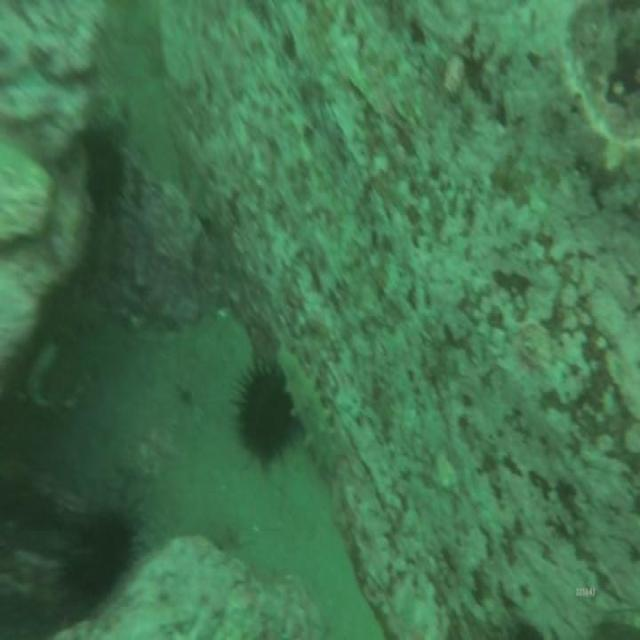echinus: (237, 374, 287, 462), (79, 516, 131, 592), (88, 132, 121, 212)
holothurian: (278, 345, 342, 474)
